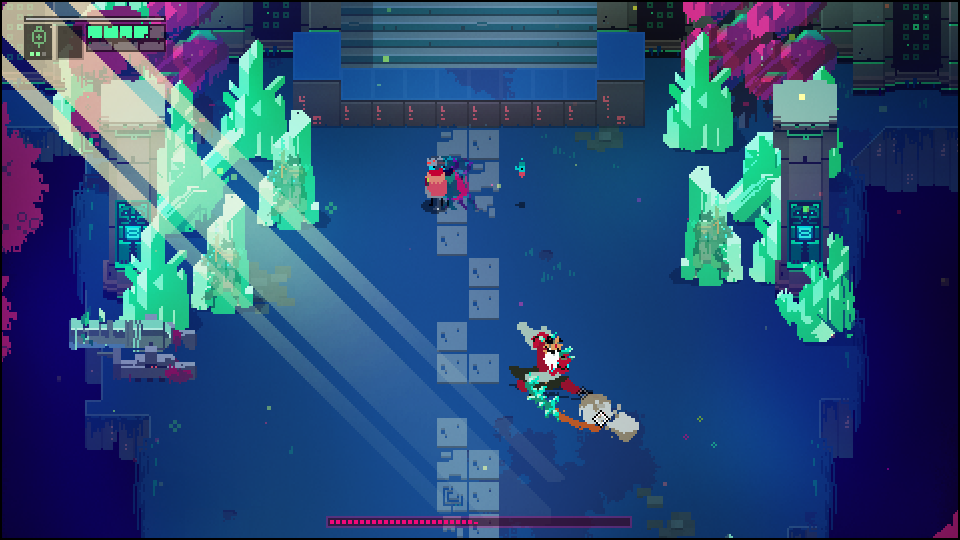hanged_man: (505, 318, 594, 429)
player: (422, 154, 451, 211)
